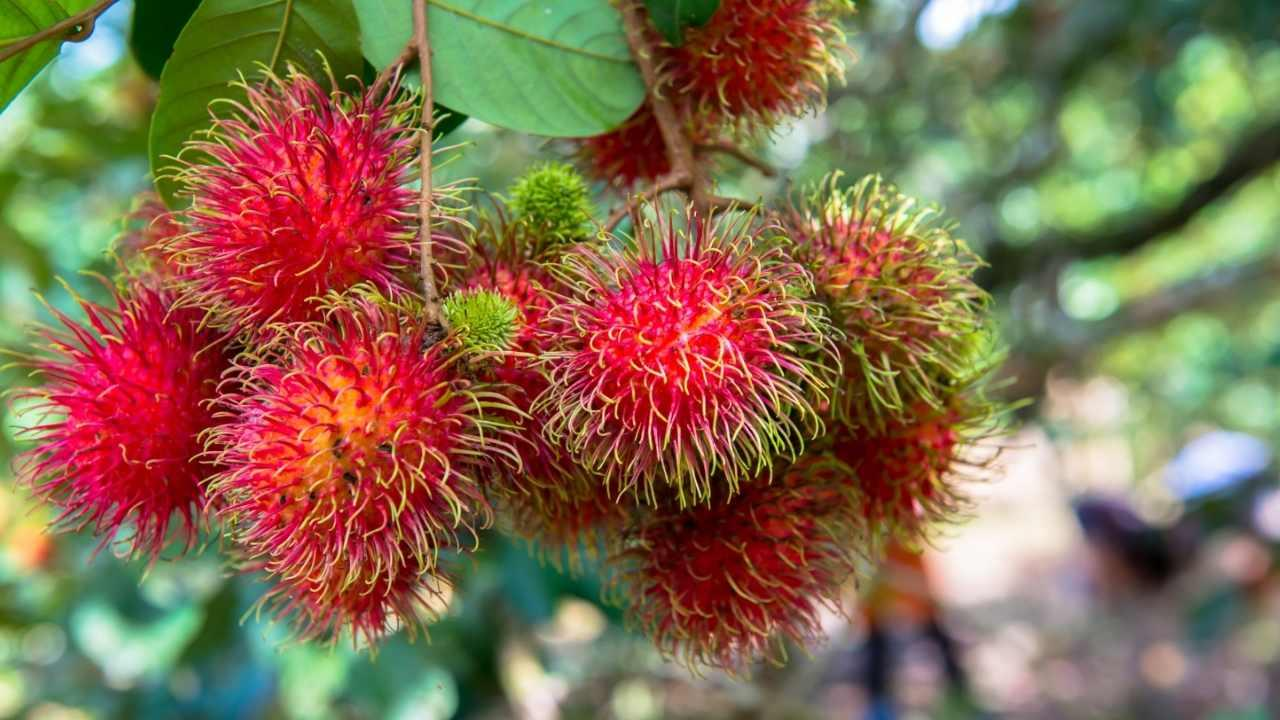chom_chom: (216, 300, 504, 576), (541, 212, 820, 484), (151, 79, 448, 326)
